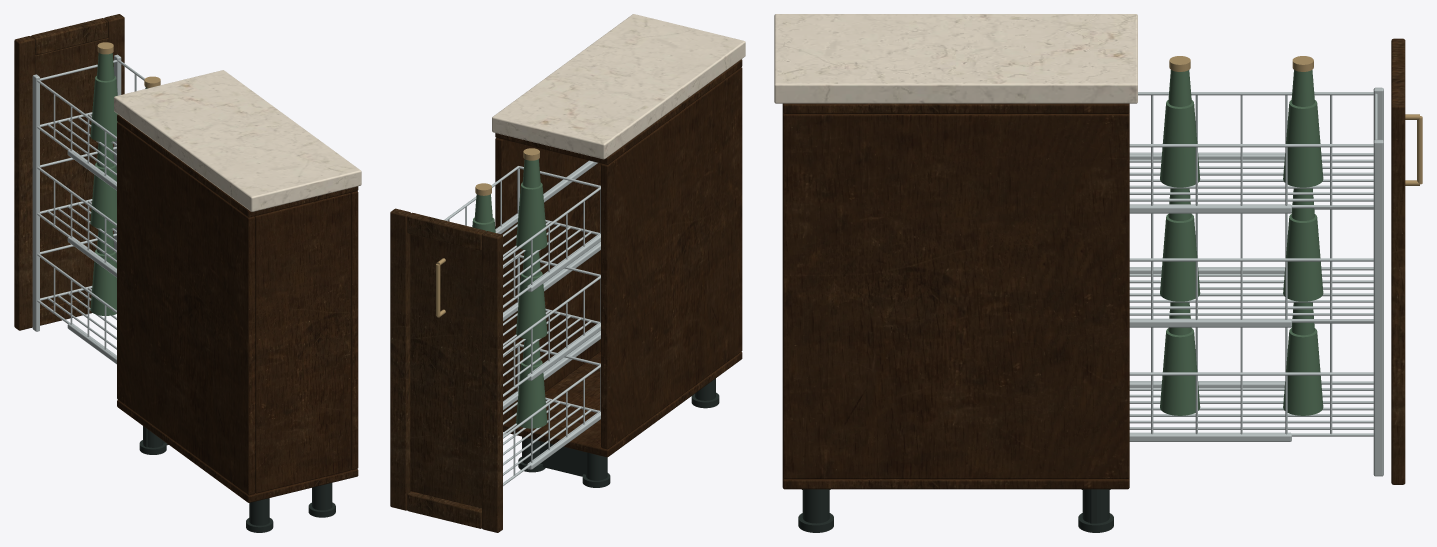
File: cabinet-pullout.glb
3 views of the same model, side by side, from view 1: azimuth 30°, elevation 25°; view 2: azimuth 150°, elevation 25°; view 3: azimuth 270°, elevation 25° (orthographic). The views are drawn at different scales.
Parts seen in each view (by area): view 1: walnut_surfaces, oak_surfaces, stone_surfaces, steel_surfaces, bottle_surfaces, dark_surfaces; view 2: walnut_surfaces, oak_surfaces, stone_surfaces, steel_surfaces, bottle_surfaces, dark_surfaces, bronze_surfaces; view 3: walnut_surfaces, steel_surfaces, stone_surfaces, bottle_surfaces, oak_surfaces, dark_surfaces, bronze_surfaces.
Boxes of the visible parts, left/top/right/bottom form: walnut_surfaces: left=117, top=114, right=358, bottom=502; oak_surfaces: left=14, top=14, right=124, bottom=330; stone_surfaces: left=114, top=70, right=361, bottom=211; steel_surfaces: left=32, top=54, right=144, bottom=364; bottle_surfaces: left=90, top=53, right=147, bottom=315; dark_surfaces: left=139, top=426, right=335, bottom=532; walnut_surfaces: left=495, top=59, right=742, bottom=457; oak_surfaces: left=390, top=208, right=502, bottom=532; stone_surfaces: left=492, top=14, right=745, bottom=159; steel_surfaces: left=444, top=160, right=600, bottom=485; bottle_surfaces: left=472, top=159, right=547, bottom=428; dark_surfaces: left=518, top=378, right=719, bottom=487; bronze_surfaces: left=436, top=148, right=539, bottom=317; walnut_surfaces: left=782, top=103, right=1129, bottom=489; steel_surfaces: left=1129, top=87, right=1383, bottom=476; stone_surfaces: left=774, top=14, right=1137, bottom=103; bottle_surfaces: left=1160, top=70, right=1323, bottom=415; oak_surfaces: left=1391, top=38, right=1405, bottom=484; dark_surfaces: left=798, top=489, right=1113, bottom=532; bronze_surfaces: left=1169, top=56, right=1422, bottom=185.
Bounding box in the file's own units: 0.3 × 0.9 × 1.16.
7 materials, 3 textured.
